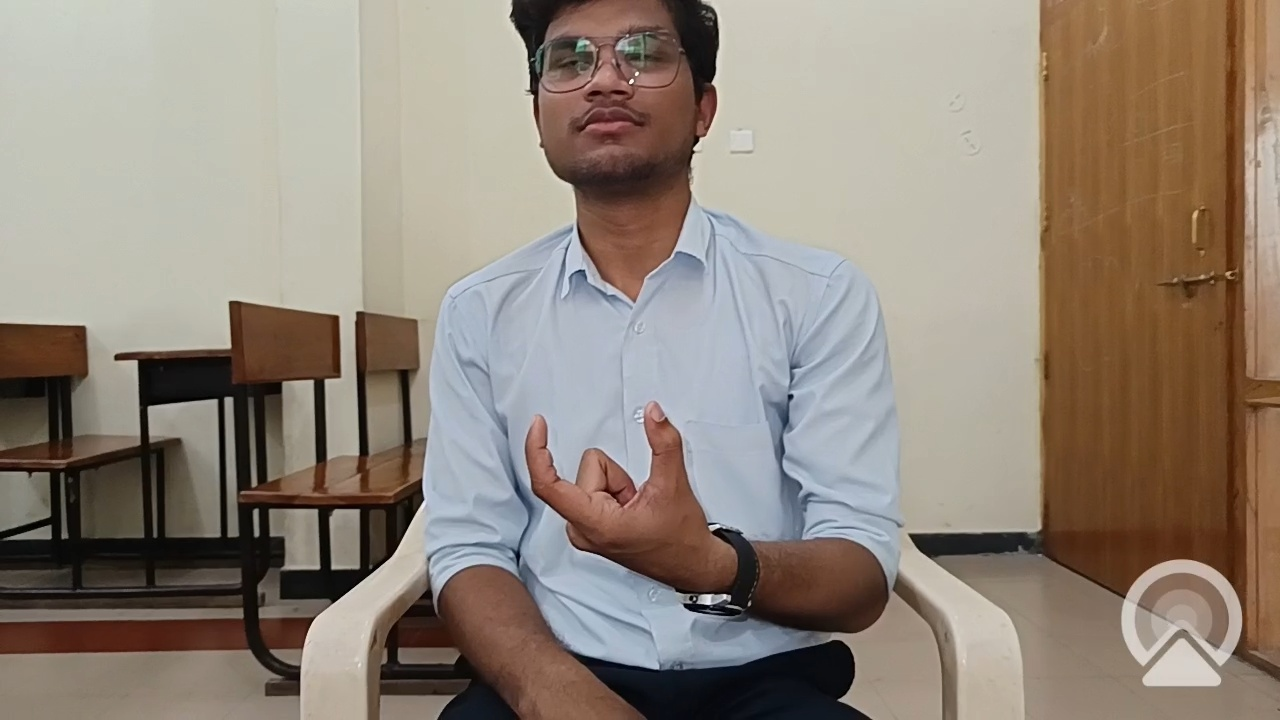U: (485, 344, 768, 626)
